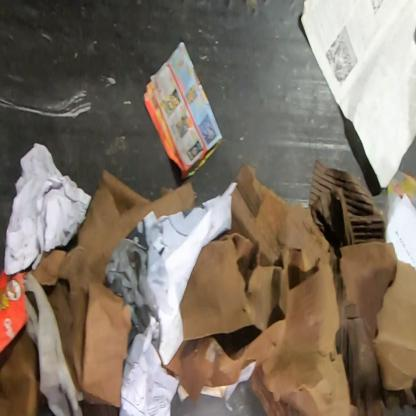cardboard: (161, 161, 359, 415), (31, 166, 195, 408), (336, 241, 415, 415), (309, 157, 387, 310), (0, 327, 47, 416), (0, 268, 29, 356), (385, 192, 415, 271)
soft_plastic: (104, 238, 174, 334)
